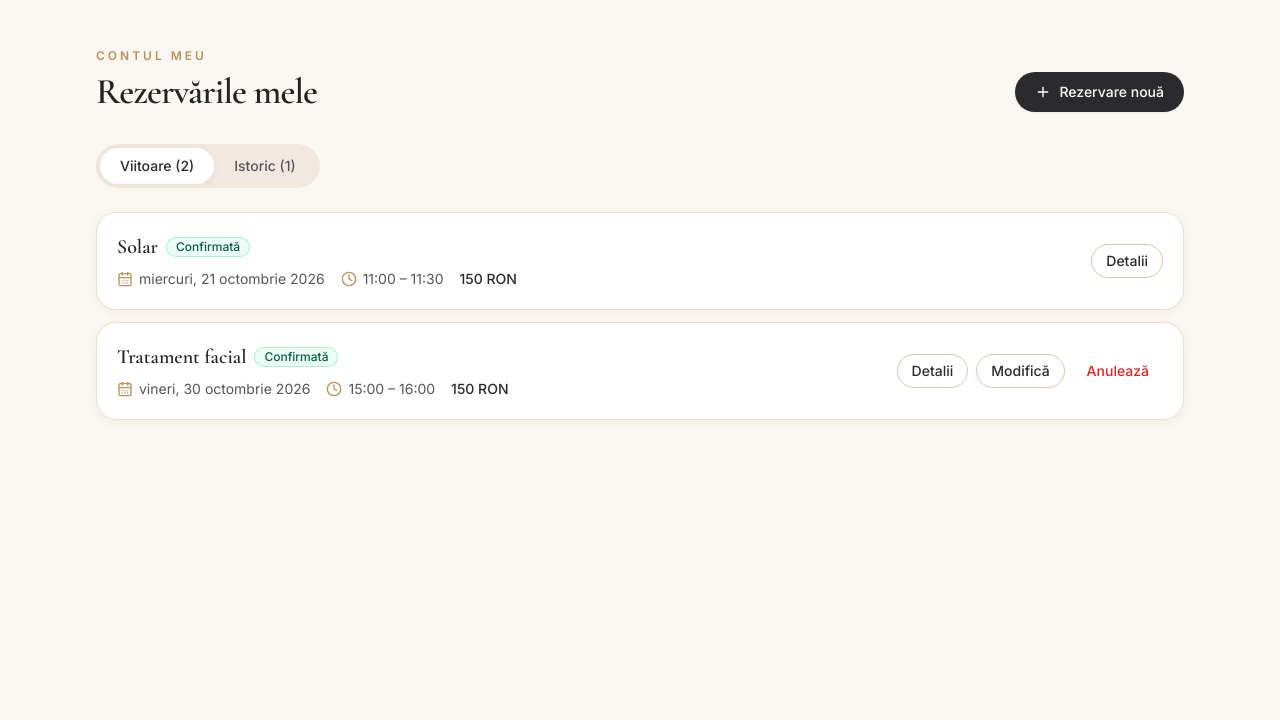
Test: My reservations – cancellation › asks for confirmation and cancels the reservation
This screenshot has width=1280, height=720.
Click the button "Anulează".
click(1118, 371)  # box [1073,354,1163,388]
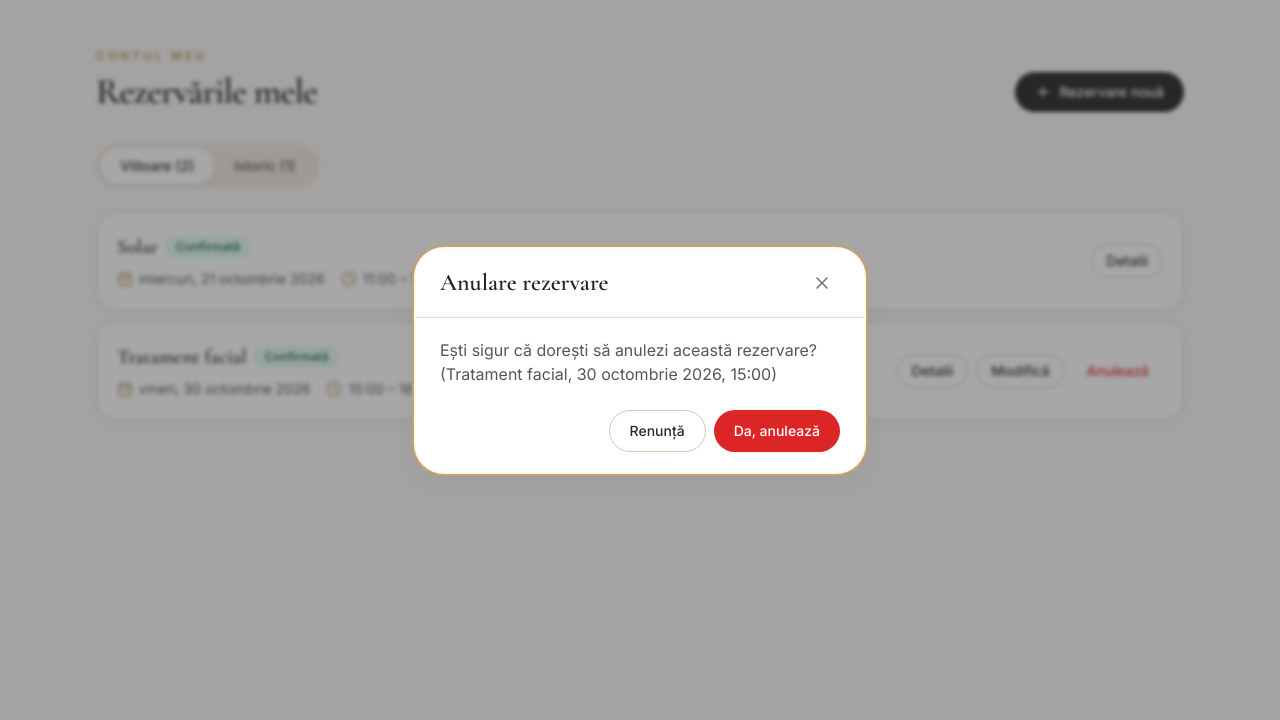
Check: the text "Ești sigur că dorești să anulezi această rezervare?" is shown, box [440,340,817,384]
Click the button "Da, anulează".
click(777, 430)  # box [714,410,840,452]
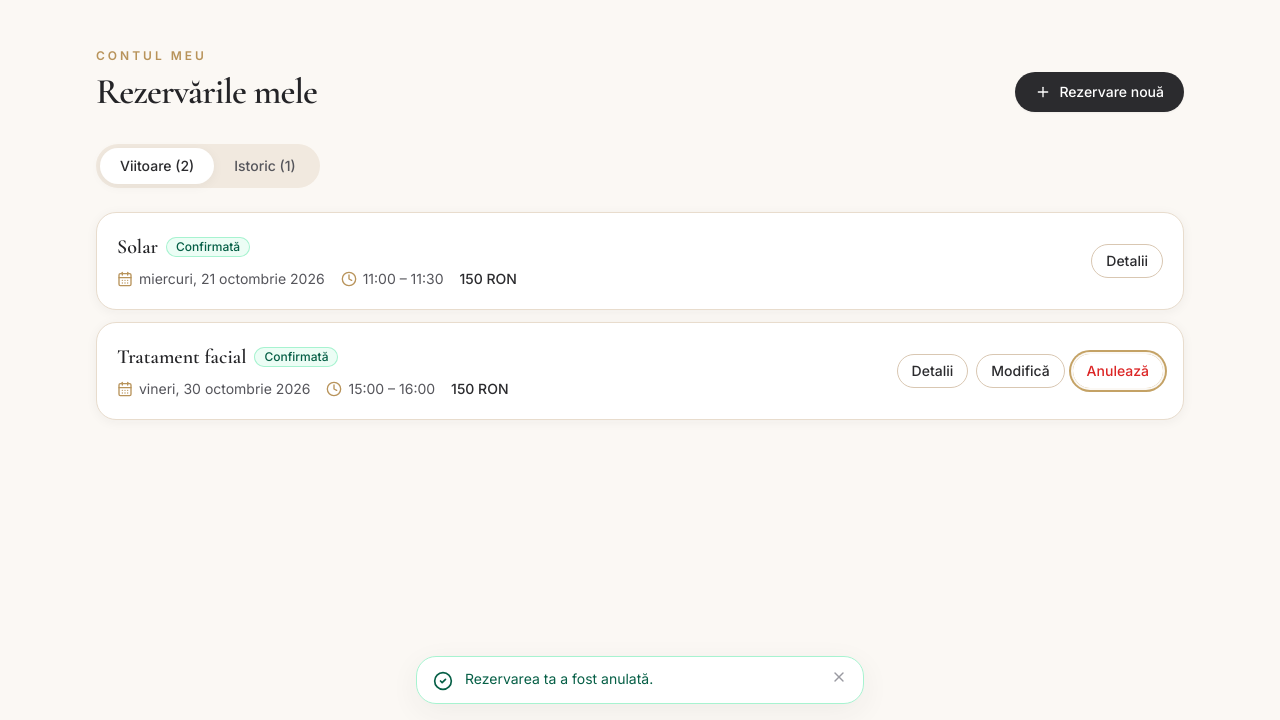
Check: the text "Rezervarea ta a fost anulată." is shown, box [465,670,653,687]
